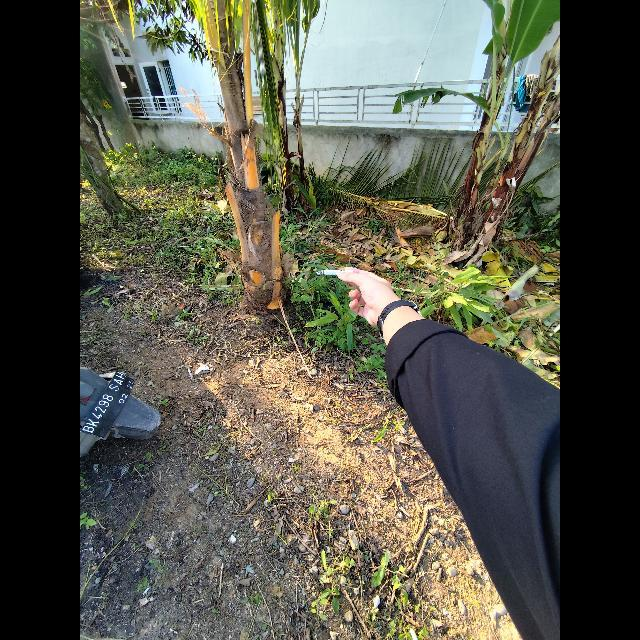rokok: (315, 266, 355, 278)
